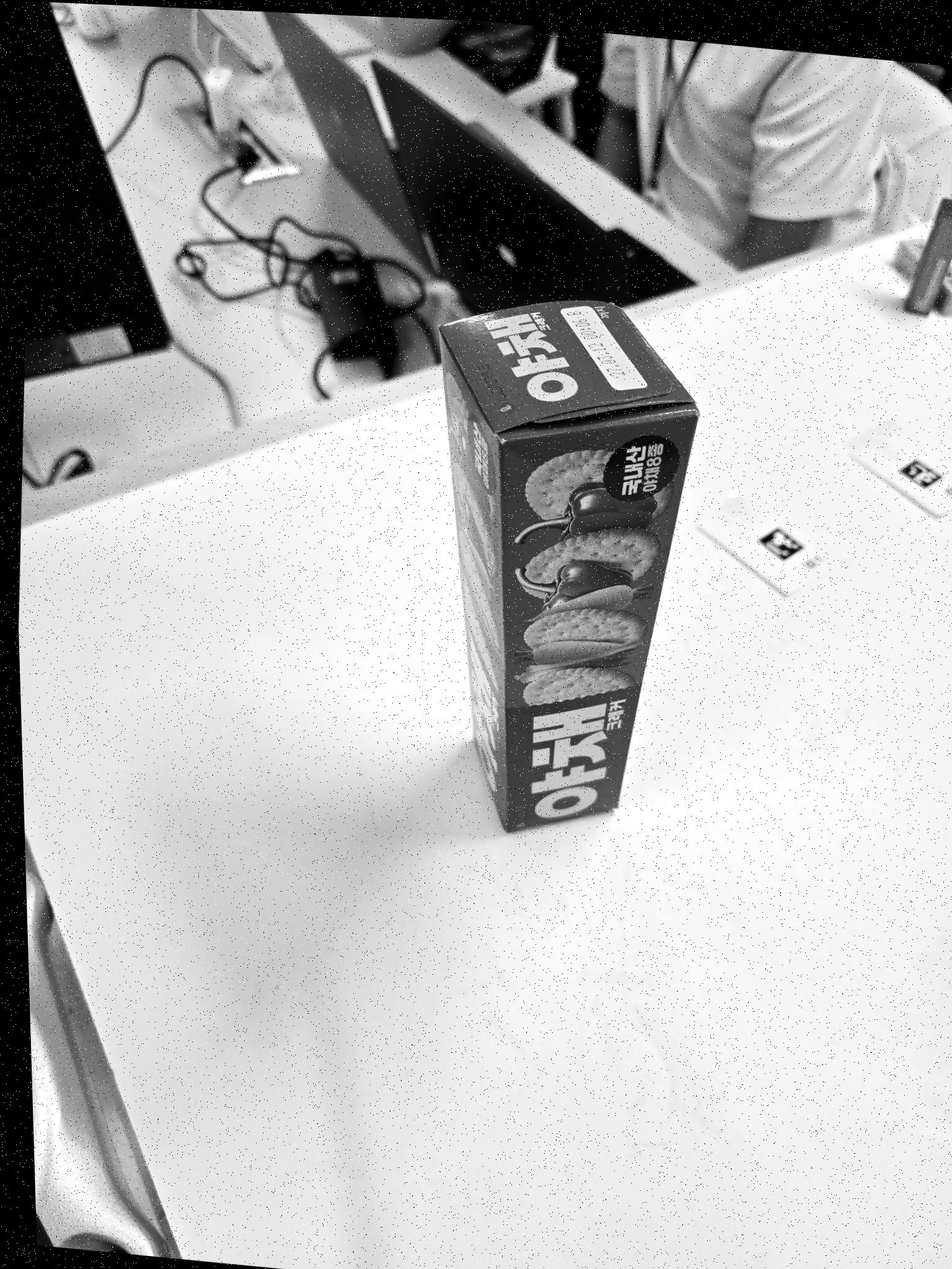cracker_vege: (440, 298, 698, 831)
